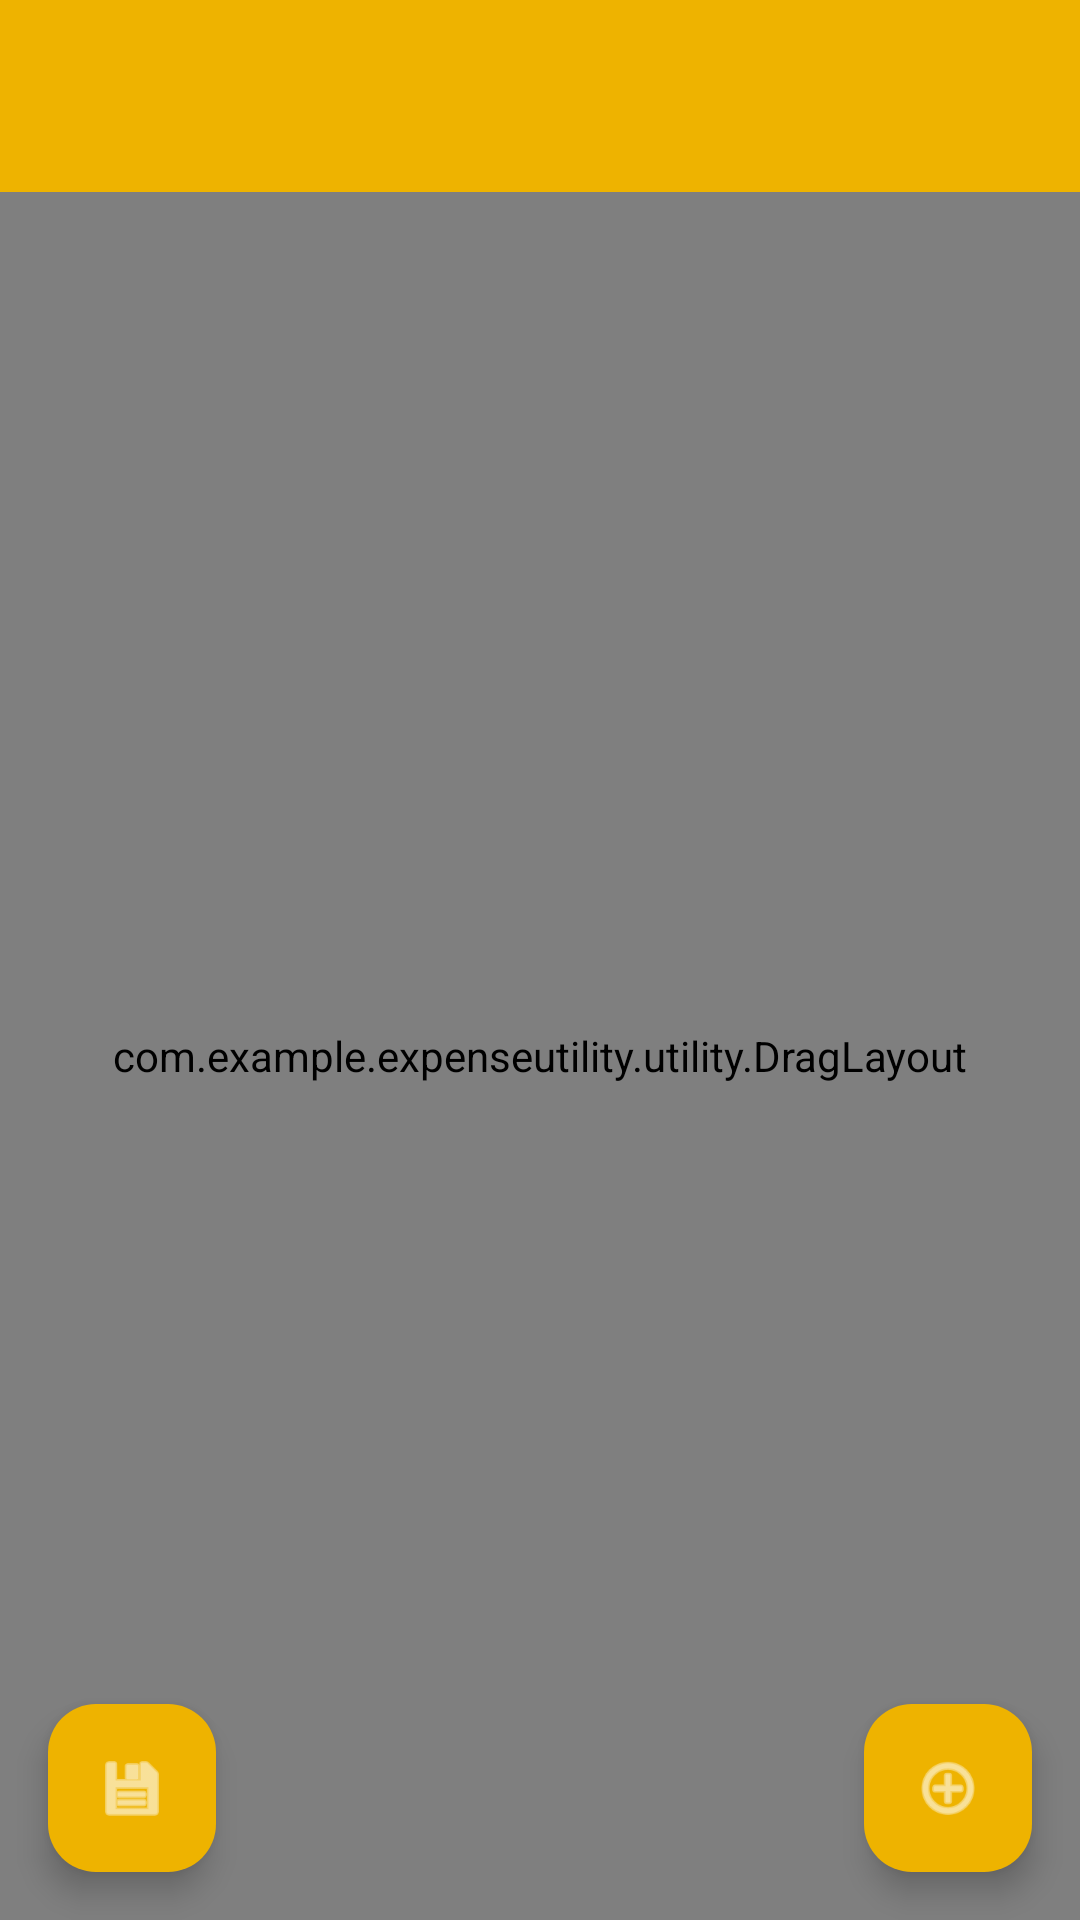

Point at icon controls on the screen. Image size 1080w x 1920h, points as [x,y].
add: [948,1788]
save: [132,1788]
